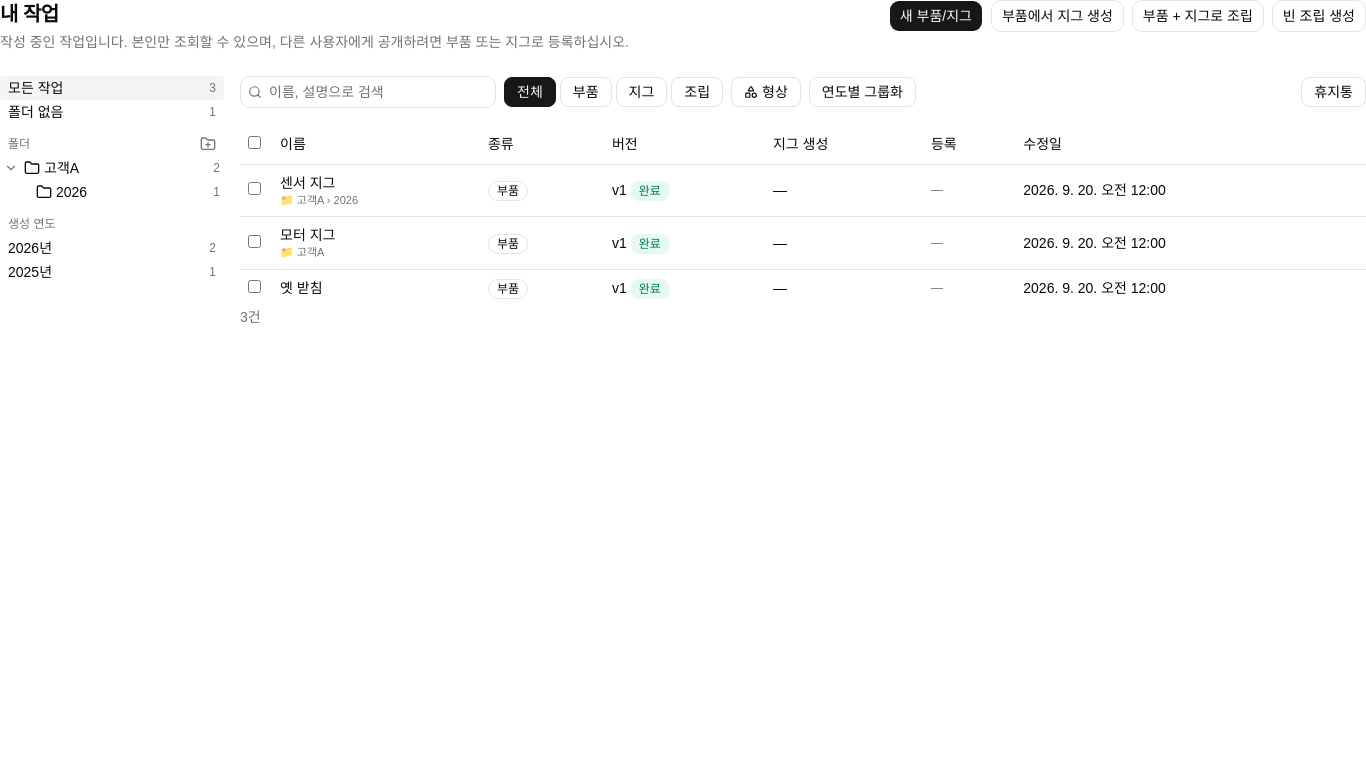
폴더를 누르면 그 폴더로 거르고, 골라서 옮기고, 연도별로 묶는다
The width and height of the screenshot is (1366, 768).
Expected: the link "옛 받침" is shown, [280, 280, 322, 296]
Expected: the button "고객A 2" is shown, [24, 158, 220, 178]
Click the text "고객A" at (62, 168), box [44, 158, 79, 178]
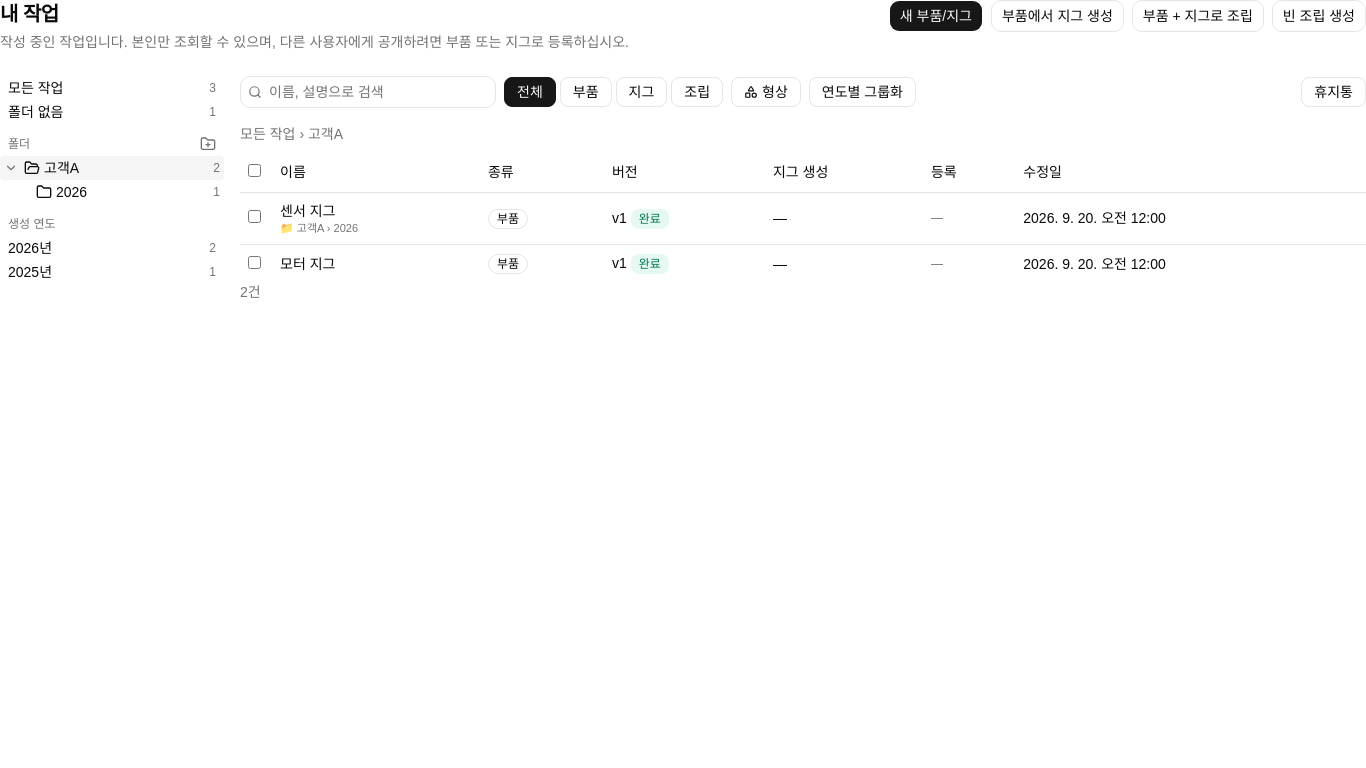
Expected: the text "📁 고객A › 2026" is shown, [280, 222, 358, 234]
Expected: the link "옛 받침" is gone
# 골라서 옮기기 — 창에 경로를 적는다.
Click the checkbox named "모터 지그 선택" at (254, 262), box [248, 256, 261, 269]
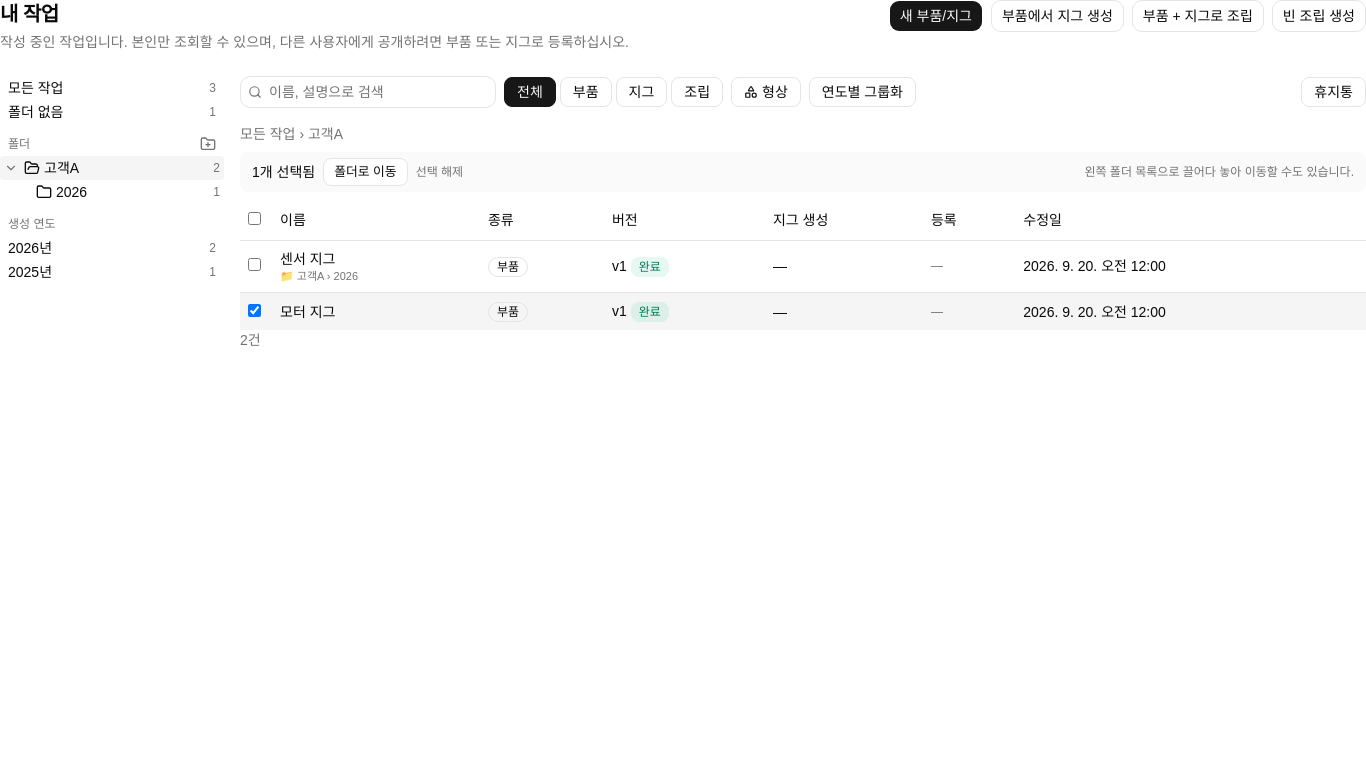
Click the button "폴더로 이동" at (365, 172), box [323, 158, 408, 186]
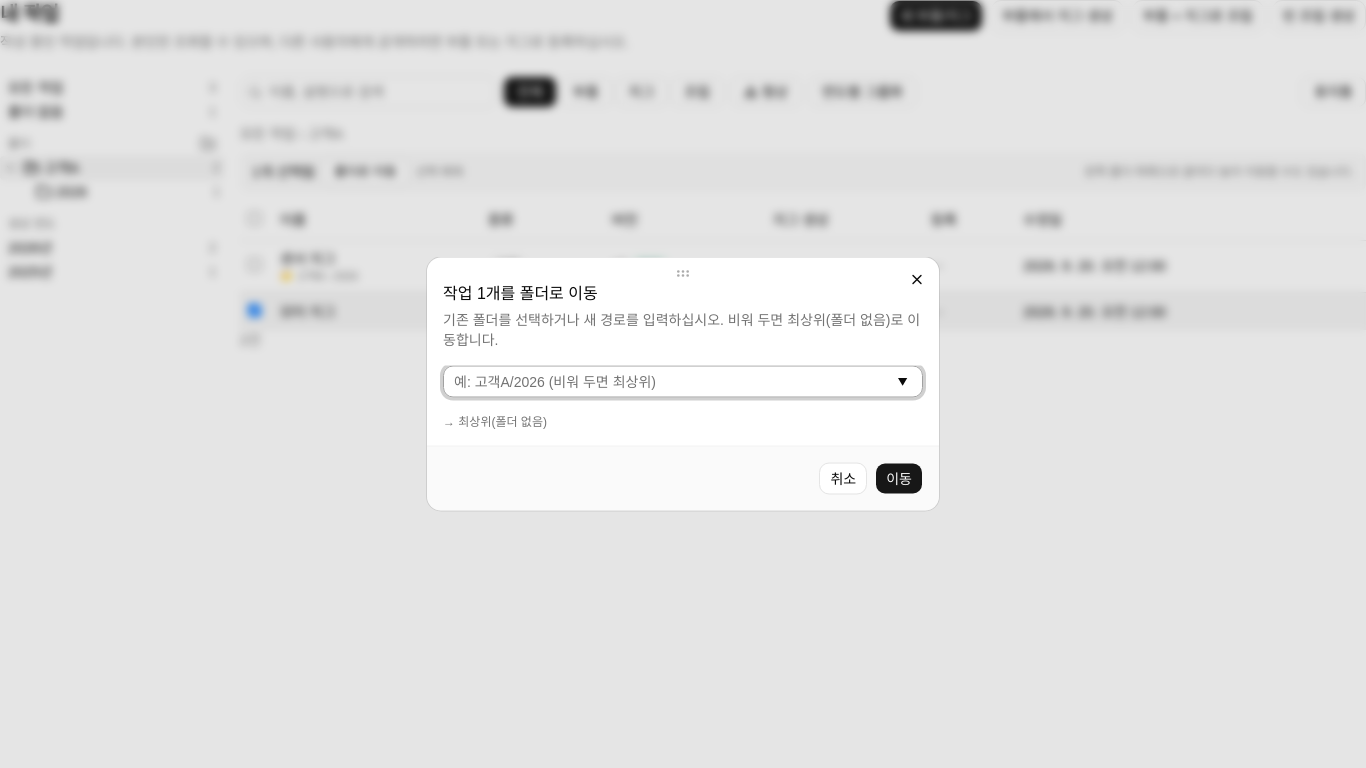
Type "보관/ 2026 " into the field named "폴더 경로" at (683, 382), box [443, 366, 923, 398]
Click the button "이동" at (899, 478), box [875, 462, 923, 494]
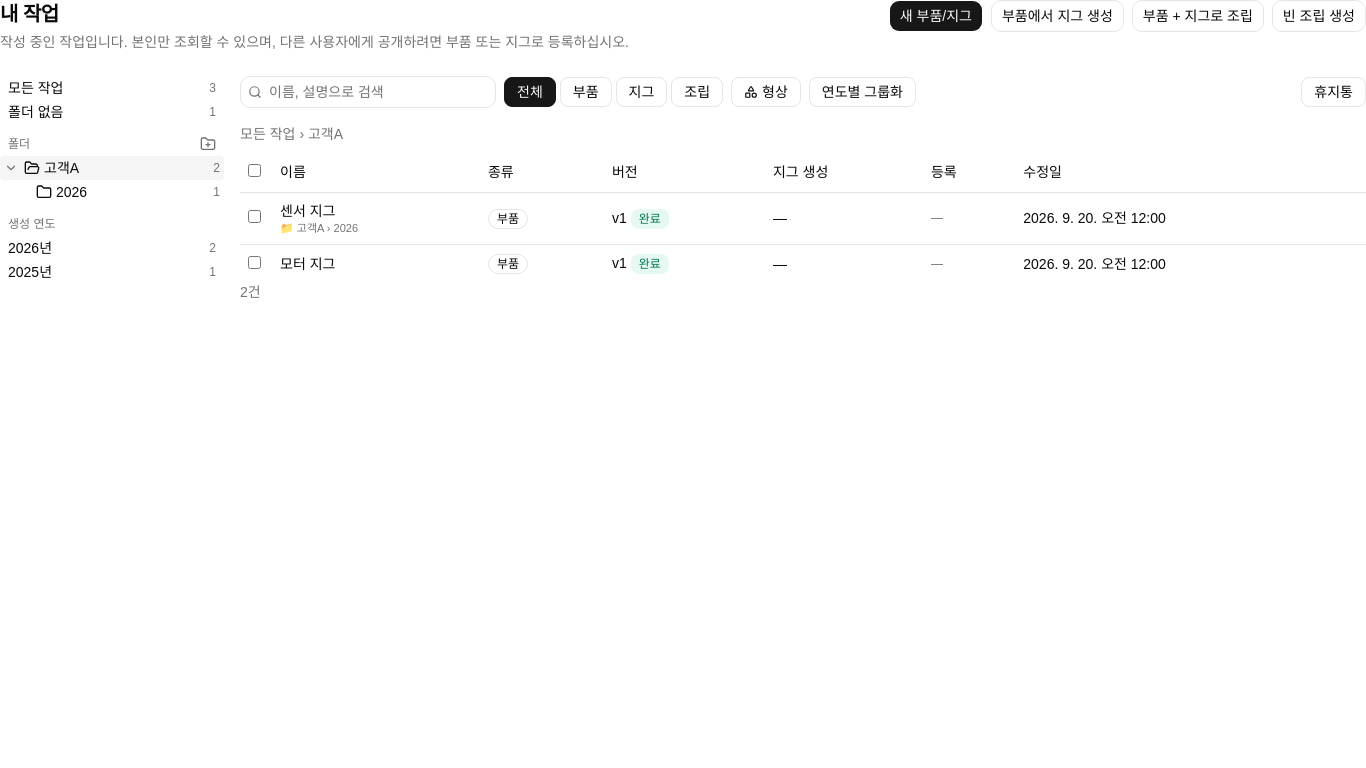
# 연도별로 묶기 — 만든 순으로 다시 묻고 해마다 머리줄이 생긴다.
Click the button "모든 작업 3" at (112, 88), box [0, 76, 224, 100]
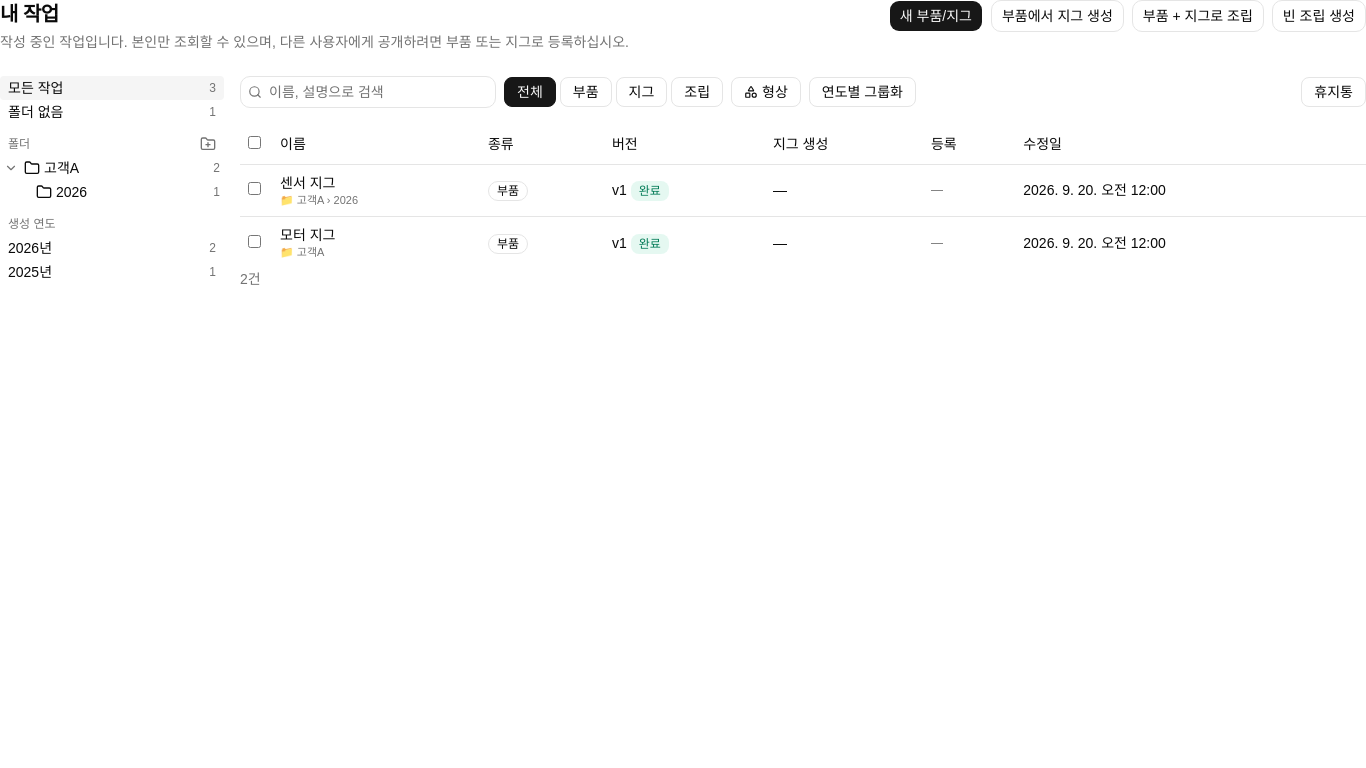
Click the button "연도별 그룹화" at (862, 92), box [809, 77, 916, 107]
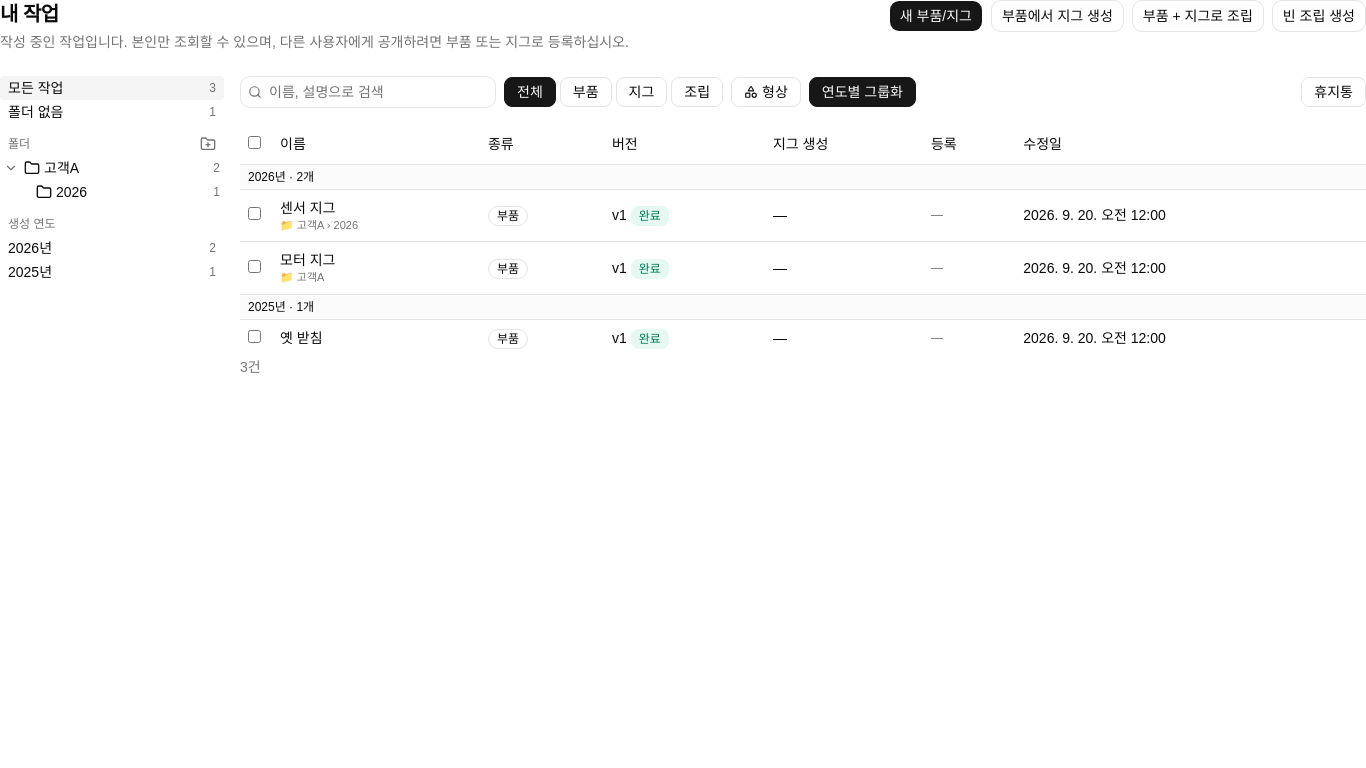
Expected: the text "2026년 · 2개" is shown, [240, 164, 1365, 189]
Expected: the text "2025년 · 1개" is shown, [240, 294, 1365, 319]
